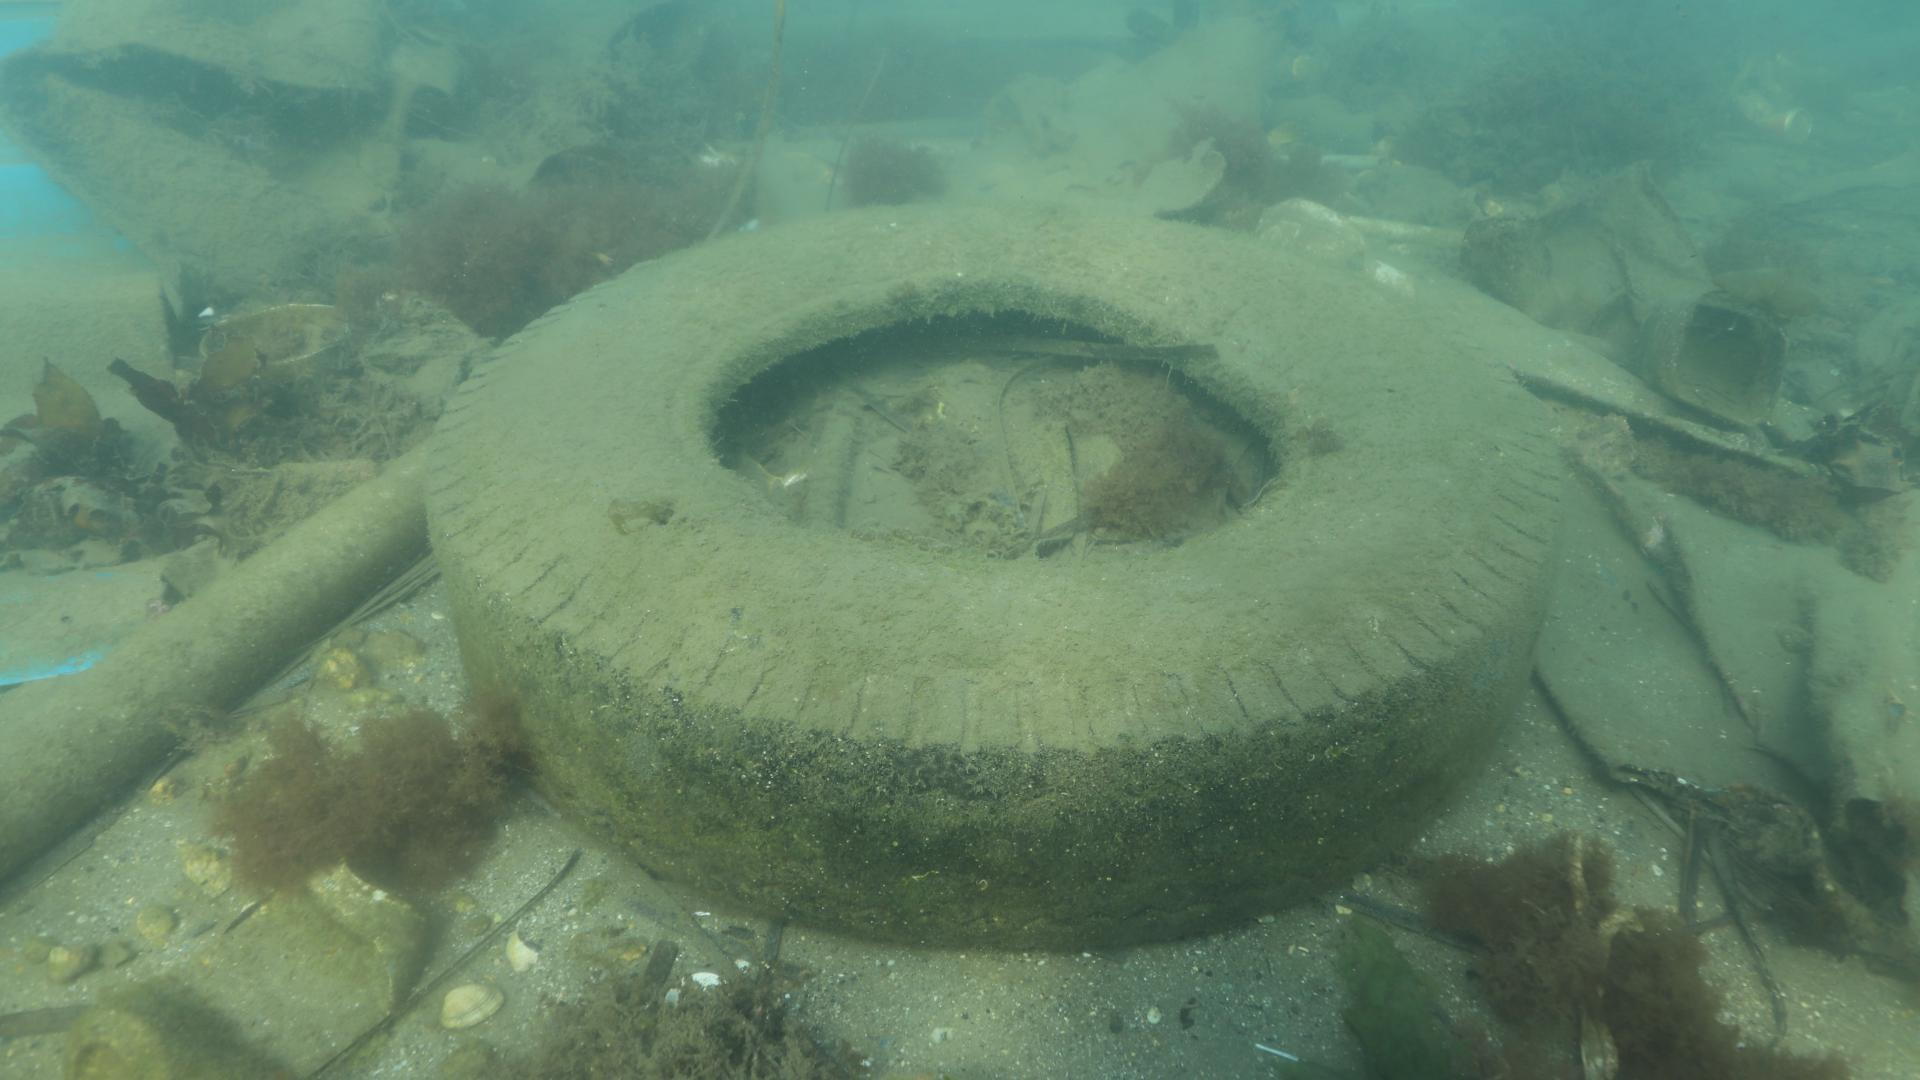tire: (423, 198, 1565, 945)
